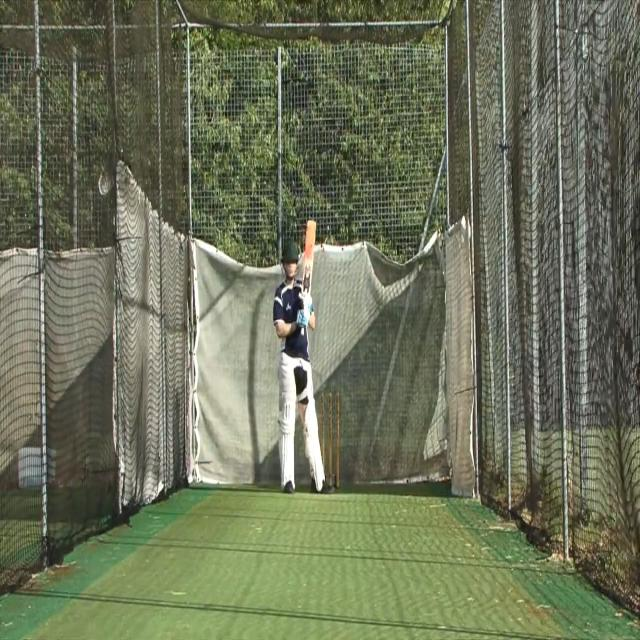batsman: (272, 218, 336, 498)
